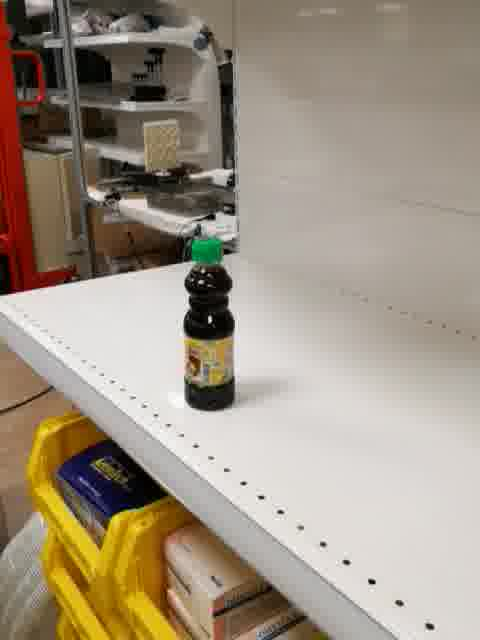cookingoil: (181, 236, 239, 413)
